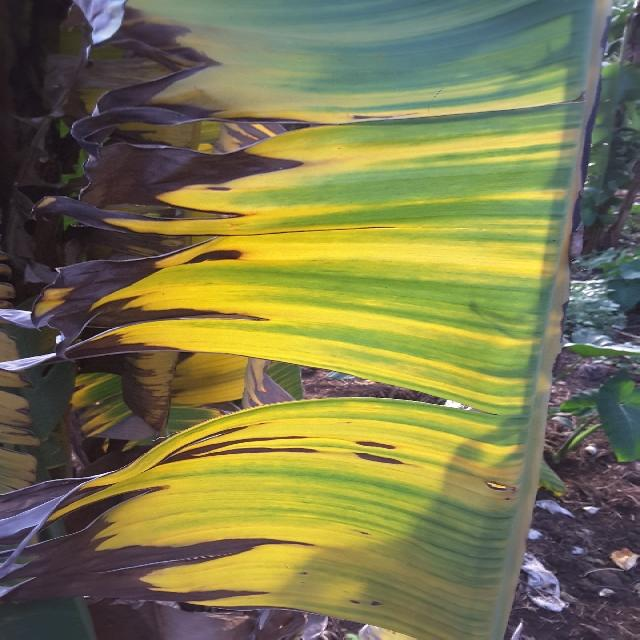Cordana: (72, 0, 598, 639), (0, 304, 65, 495), (1, 275, 85, 333)
